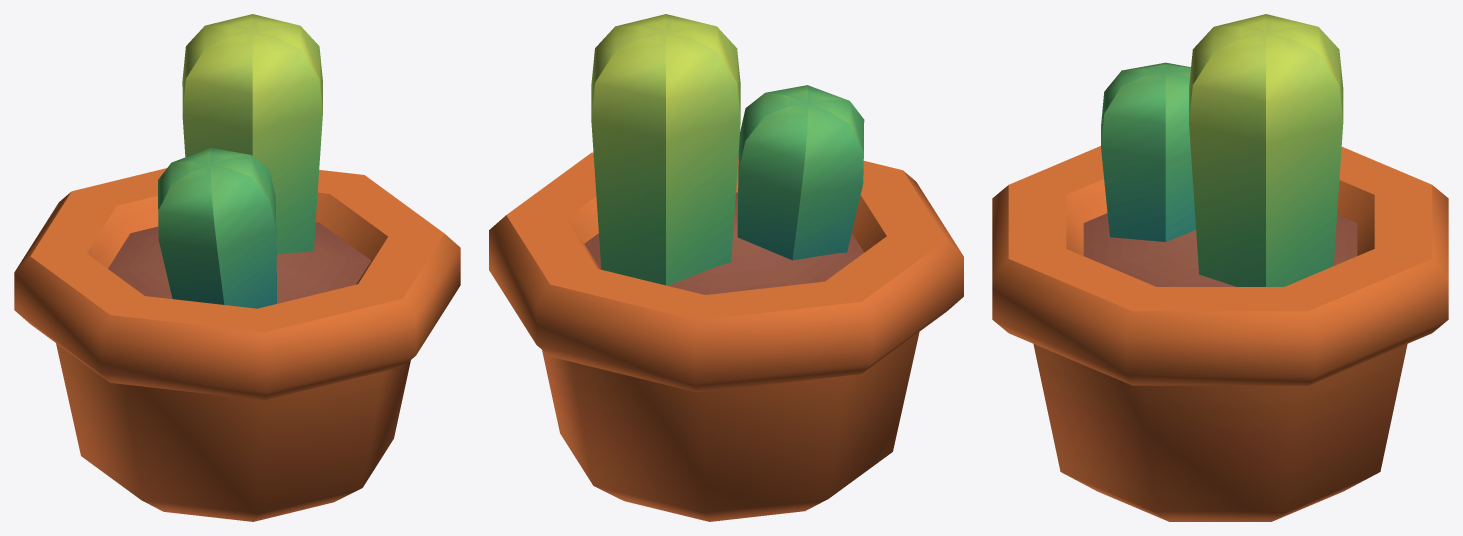
The model's file is cactus_small_B.glb.
The picture shows the model from 3 angles, left to right: view 1: azimuth 30°, elevation 25°; view 2: azimuth 150°, elevation 25°; view 3: azimuth 270°, elevation 25°; orthographic projection. The views are drawn at different scales.
Parts seen in each view (by area): view 1: cactus_small_B; view 2: cactus_small_B; view 3: cactus_small_B.
Boxes of the visible parts, <box> form: cactus_small_B: <box>14,14,460,521</box>; cactus_small_B: <box>489,14,963,521</box>; cactus_small_B: <box>992,14,1448,521</box>.
Size of the model in its own units: 0.5 by 0.5516 by 0.5.
Materials: 1 (1 with a texture image).
